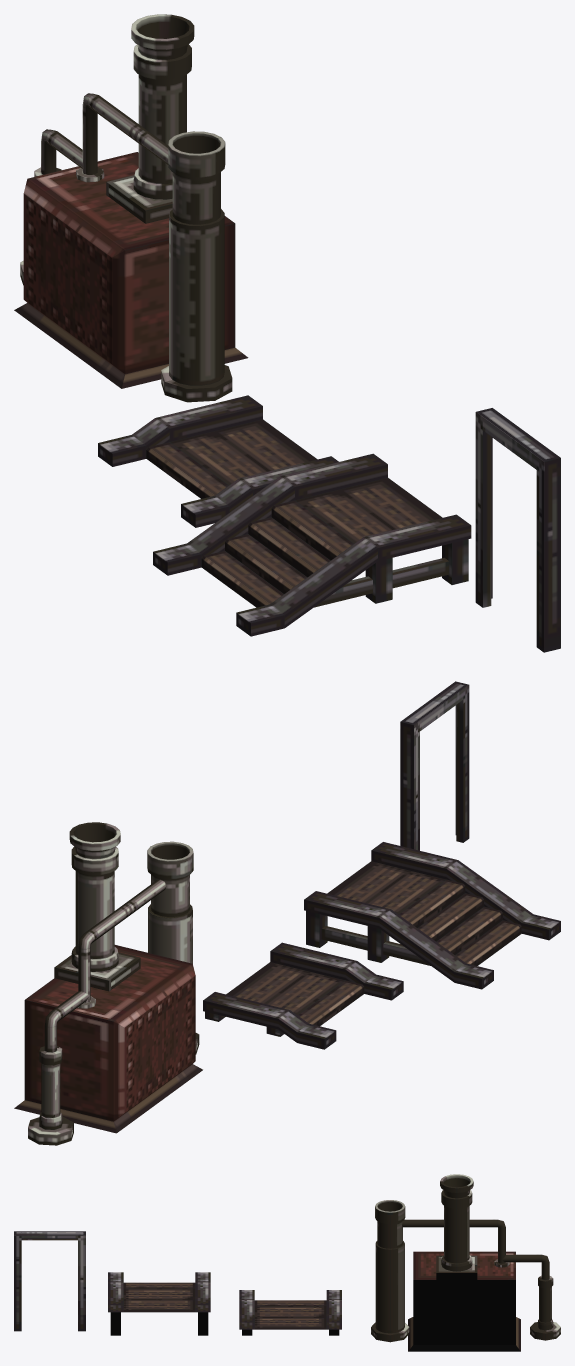
The model's file is EnvMdrMD_Factory_A_DoorFrame_A.FBX.
3 views of the same model, one above another, from view 1: azimuth 30°, elevation 25°; view 2: azimuth 150°, elevation 25°; view 3: azimuth 270°, elevation 25° (orthographic). The views are drawn at different scales.
Parts seen in each view (by area): view 1: EnvMdrMD_Factory_A_Engine_A, EnvMdrMD_Factory_A_DoorStairs_A, EnvMdrMD_Factory_A_DoorStairs_B, EnvMdrMD_Factory_A_DoorFrame_A; view 2: EnvMdrMD_Factory_A_Engine_A, EnvMdrMD_Factory_A_DoorStairs_A, EnvMdrMD_Factory_A_DoorStairs_B, EnvMdrMD_Factory_A_DoorFrame_A; view 3: EnvMdrMD_Factory_A_Engine_A, EnvMdrMD_Factory_A_DoorStairs_A, EnvMdrMD_Factory_A_DoorStairs_B, EnvMdrMD_Factory_A_DoorFrame_A.
Boxes of the visible parts, x1,y1,x2,y2 form: EnvMdrMD_Factory_A_Engine_A: [14, 14, 248, 402]; EnvMdrMD_Factory_A_DoorStairs_A: [153, 453, 471, 636]; EnvMdrMD_Factory_A_DoorStairs_B: [98, 395, 338, 527]; EnvMdrMD_Factory_A_DoorFrame_A: [475, 408, 560, 652]; EnvMdrMD_Factory_A_Engine_A: [14, 822, 202, 1145]; EnvMdrMD_Factory_A_DoorStairs_A: [304, 842, 560, 989]; EnvMdrMD_Factory_A_DoorStairs_B: [203, 942, 403, 1049]; EnvMdrMD_Factory_A_DoorFrame_A: [400, 681, 469, 850]; EnvMdrMD_Factory_A_Engine_A: [371, 1174, 560, 1351]; EnvMdrMD_Factory_A_DoorStairs_A: [108, 1272, 210, 1335]; EnvMdrMD_Factory_A_DoorStairs_B: [239, 1290, 341, 1335]; EnvMdrMD_Factory_A_DoorFrame_A: [14, 1231, 85, 1331].
Size of the model in its own units: 335 by 345 by 1066.
1 material, 1 textured.
